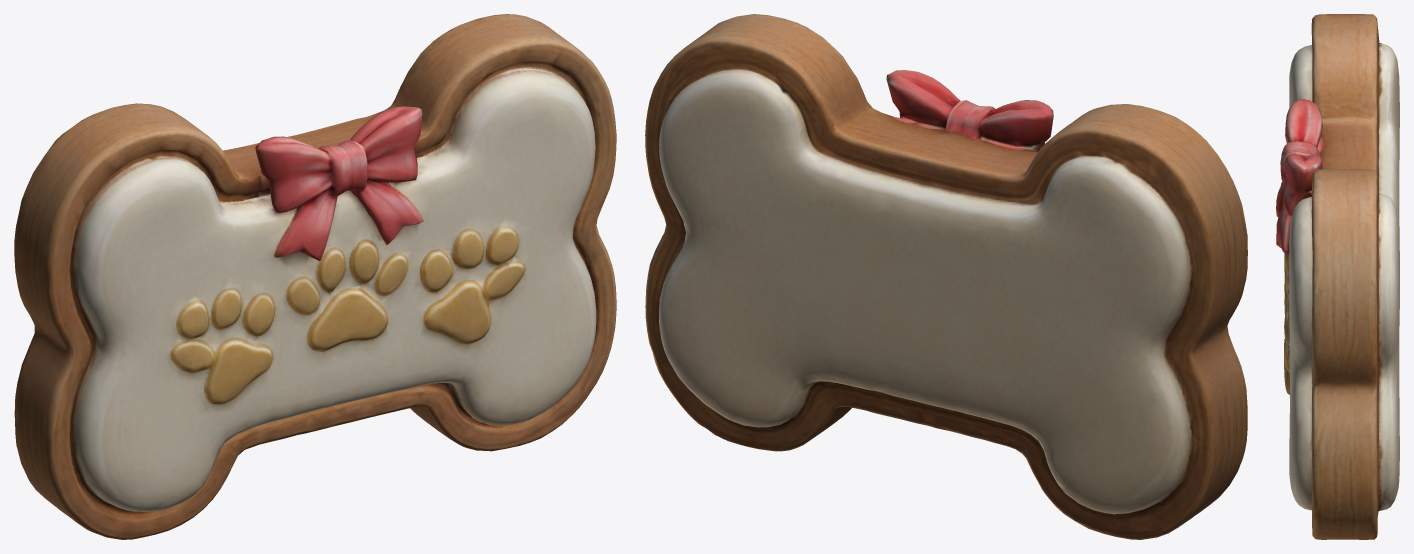
Rendered from P_DecorBone_h65.fbx.
3 renders of one model, left to right at view 1: azimuth 30°, elevation 25°; view 2: azimuth 150°, elevation 25°; view 3: azimuth 270°, elevation 25°, orthographic. The views are drawn at different scales.
Parts seen in each view (by area): view 1: texture_mapping; view 2: texture_mapping; view 3: texture_mapping.
Boxes of the visible parts, x1,y1,x2,y2 form: texture_mapping: [14, 14, 616, 539]; texture_mapping: [645, 14, 1247, 539]; texture_mapping: [1276, 14, 1399, 539].
Size of the model in its own units: 1 by 0.2182 by 0.6804.
Materials: 1 (1 with a texture image).
